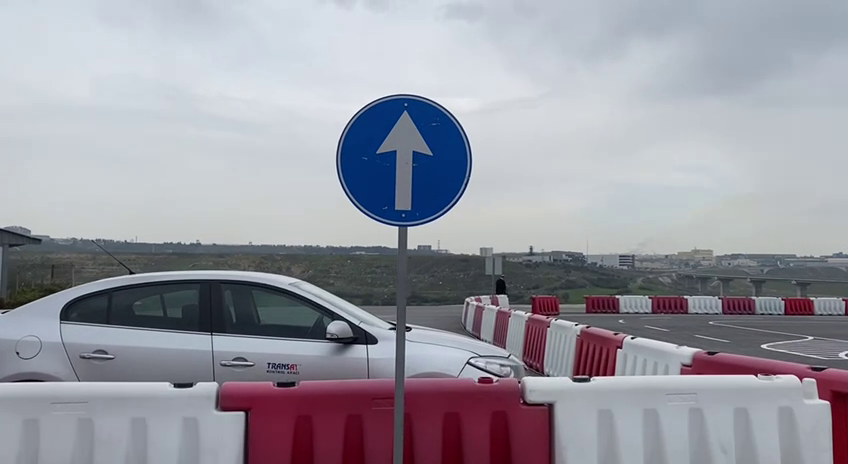forward: (334, 92, 474, 229)
